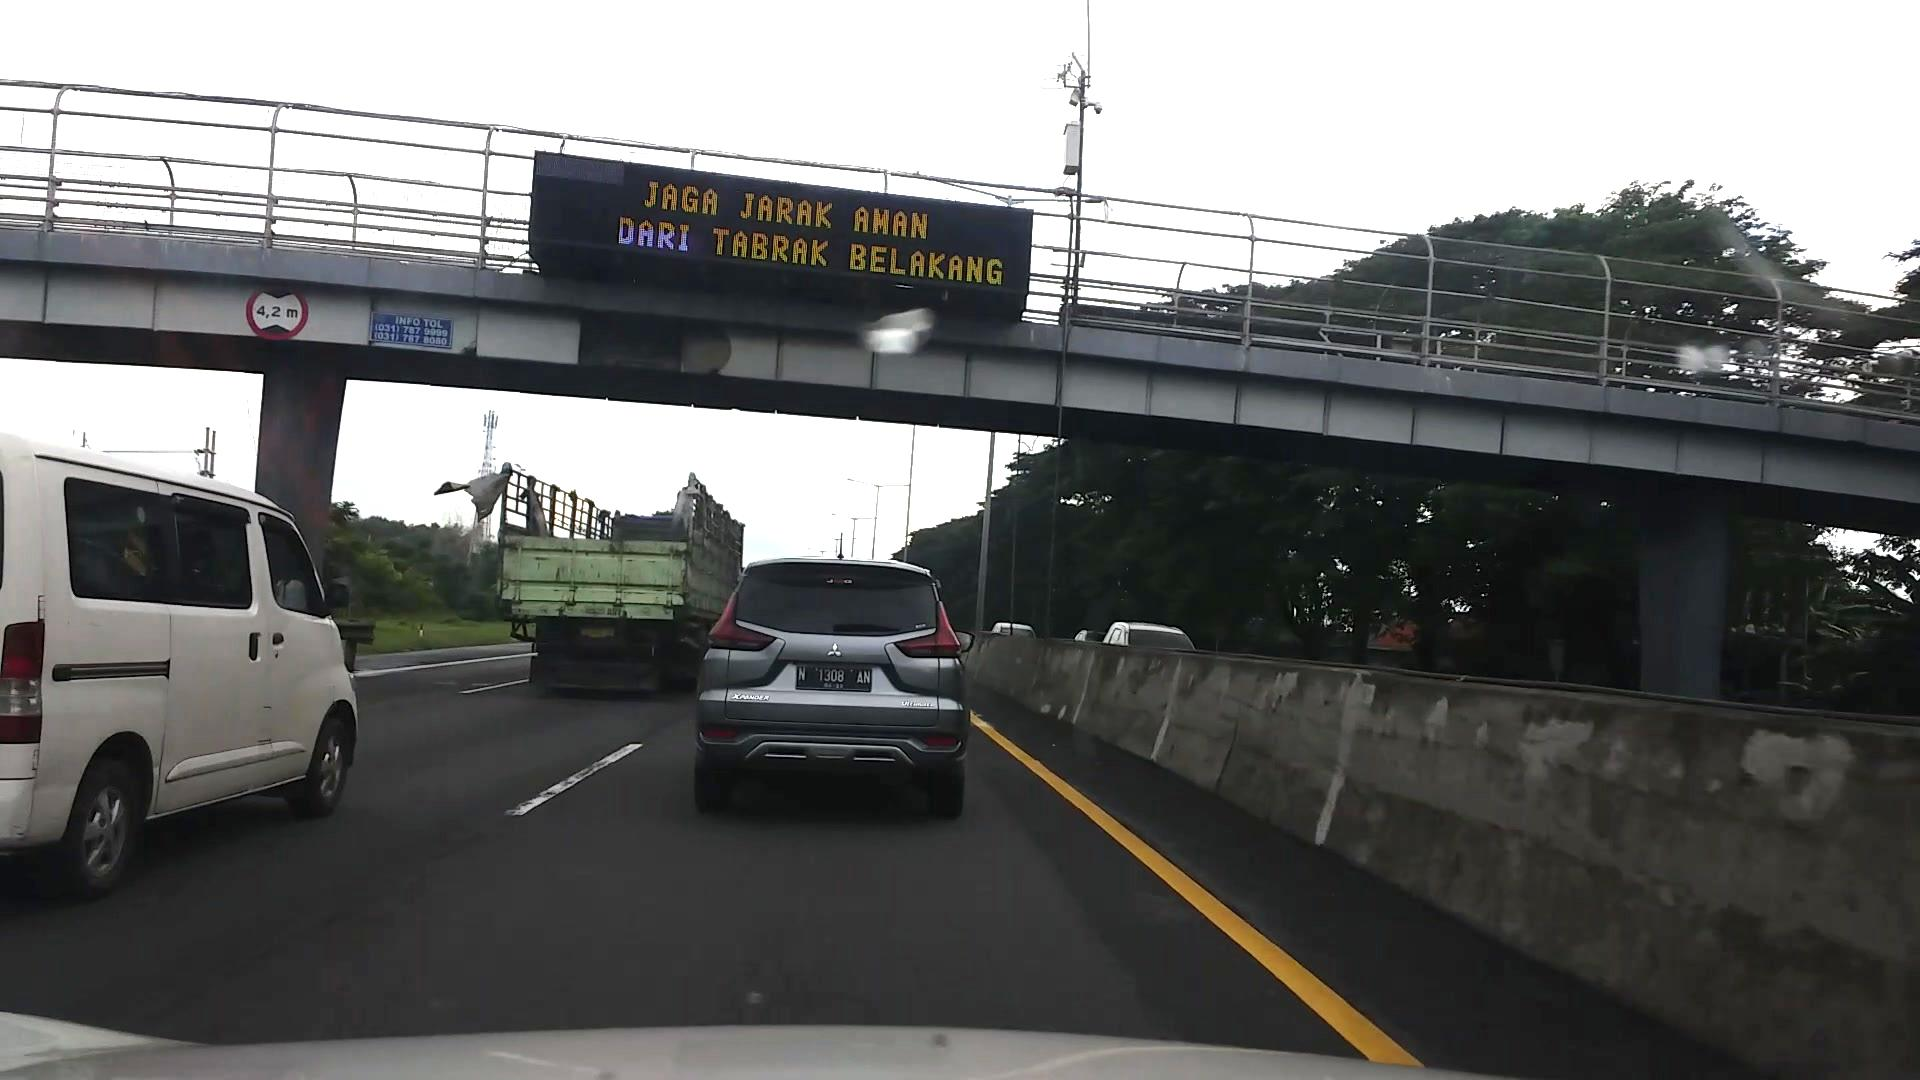plate_positive: (795, 663, 872, 692)
